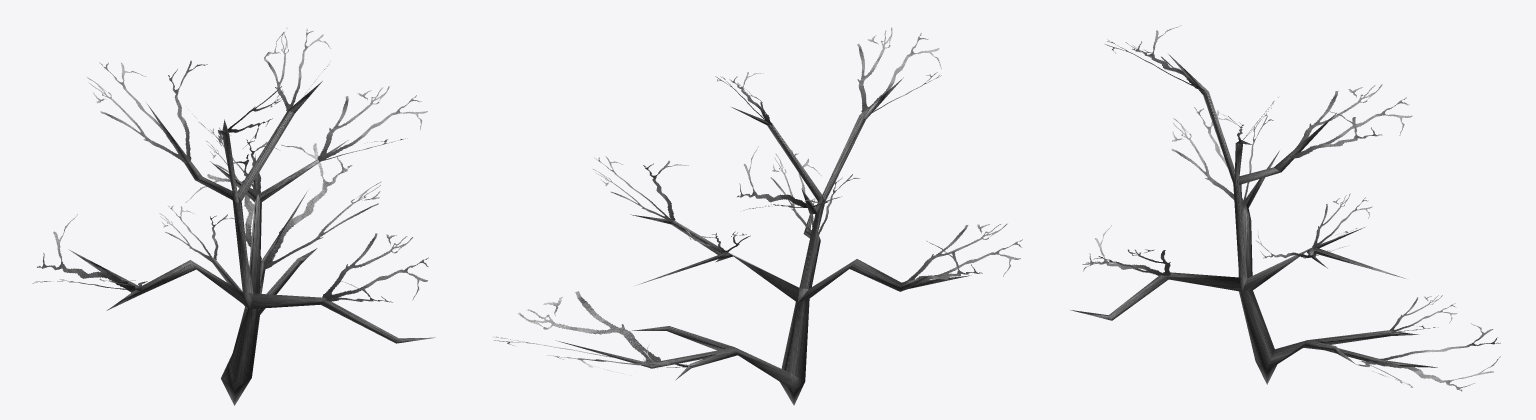
Rendered from dode_boom_3.fbx.
The picture shows the model from 3 angles, left to right: view 1: azimuth 30°, elevation 25°; view 2: azimuth 150°, elevation 25°; view 3: azimuth 270°, elevation 25°; orthographic projection. The views are drawn at different scales.
Parts seen in each view (by area): view 1: dode_boom_3; view 2: dode_boom_3; view 3: dode_boom_3.
Boxes of the visible parts, x1,y1,x2,y2 form: dode_boom_3: [32, 27, 435, 405]; dode_boom_3: [493, 27, 1022, 405]; dode_boom_3: [1070, 25, 1500, 391].
Bounding box in the file's own units: 2810 × 2100 × 2569.
